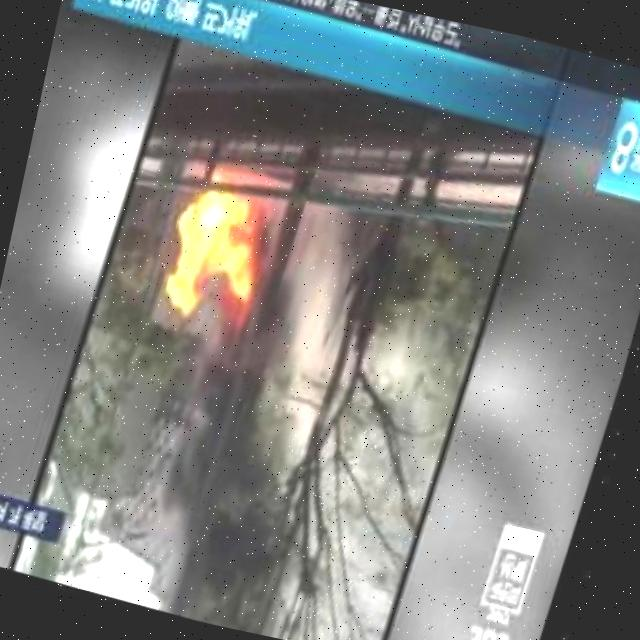fire: (145, 172, 286, 351)
